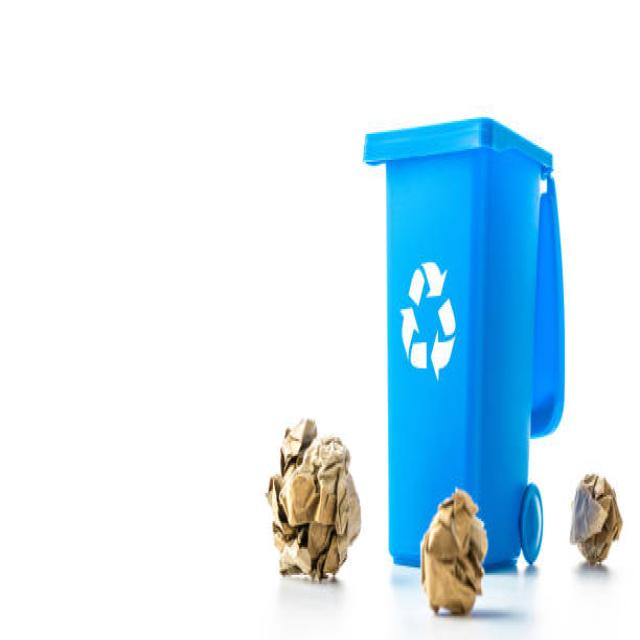paper: (257, 417, 366, 582), (414, 489, 495, 624)
